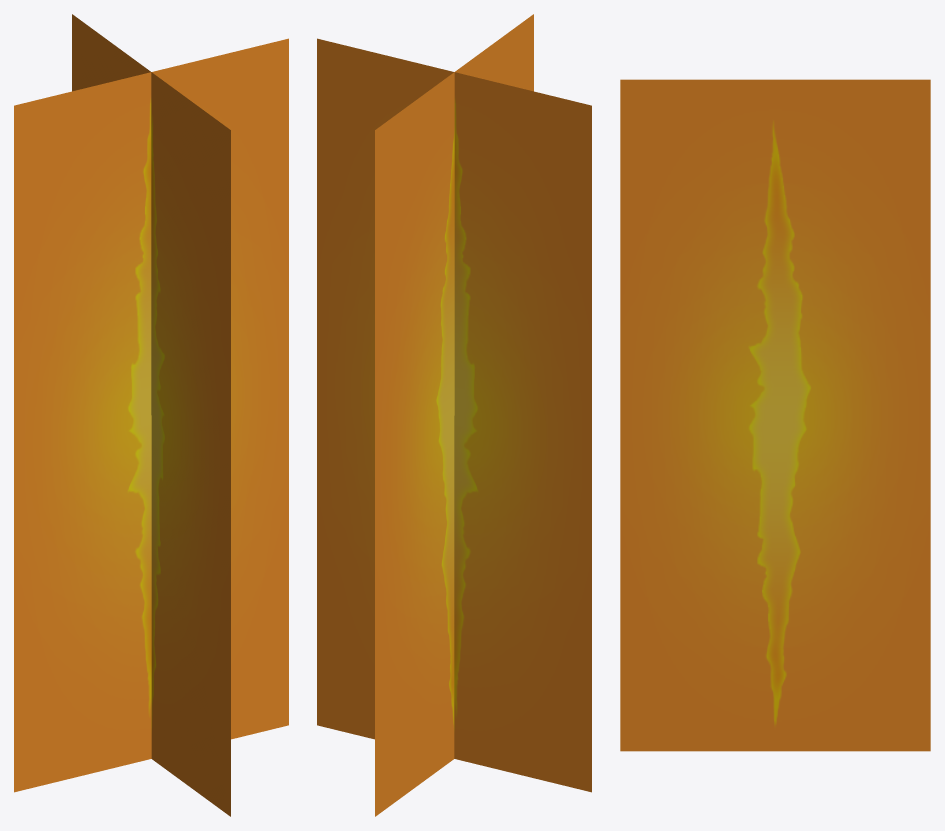
Rendered from FX_Hit_Slash_001.FBX.
3 views of the same model, side by side, from view 1: azimuth 30°, elevation 25°; view 2: azimuth 150°, elevation 25°; view 3: azimuth 270°, elevation 25° (orthographic). The views are drawn at different scales.
Parts seen in each view (by area): view 1: FX_Hit_Slash_001; view 2: FX_Hit_Slash_001; view 3: FX_Hit_Slash_001.
Part boxes in pixels (x1,y1,x2,y2): FX_Hit_Slash_001: [14, 14, 288, 816]; FX_Hit_Slash_001: [317, 14, 591, 816]; FX_Hit_Slash_001: [620, 79, 930, 751].
Size of the model in its own units: 251 by 600 by 251.
1 material, 1 textured.
